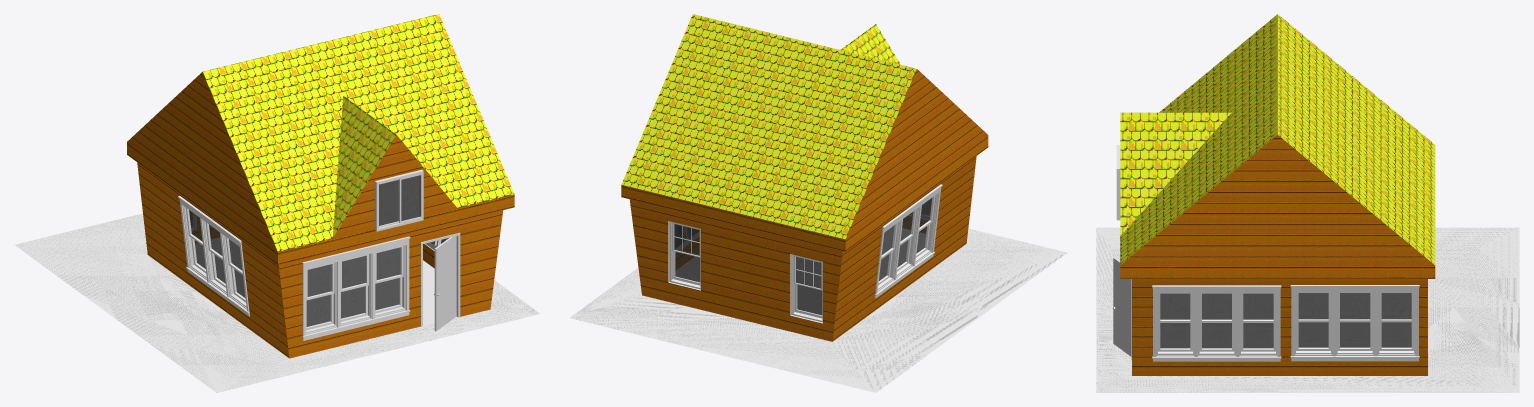
The model's file is house.dae.
3 views of the same model, side by side, from view 1: azimuth 30°, elevation 25°; view 2: azimuth 150°, elevation 25°; view 3: azimuth 270°, elevation 25° (orthographic). The views are drawn at different scales.
Visible parts, largest first — view 1: cartoon_house (×7), Window-3lite_8_-6x5_-4 (×11), windowSlider48x48 (×4), FlushDoor36, Door3-0x6-8RHRev; view 2: cartoon_house (×5), Window-3lite_8_-6x5_-4, Lower_sash (×2); view 3: cartoon_house (×6), Window-3lite_8_-6x5_-4 (×20), FlushDoor36, windowSlider48x48.
Boxes of the visible parts, x1=… form: cartoon_house (×7): x1=14, y1=14, x2=540, y2=392; Window-3lite_8_-6x5_-4 (×11): x1=178, y1=196, x2=410, y2=340; windowSlider48x48 (×4): x1=375, y1=169, x2=423, y2=231; FlushDoor36: x1=434, y1=236, x2=456, y2=331; Door3-0x6-8RHRev: x1=420, y1=232, x2=460, y2=326; cartoon_house (×5): x1=569, y1=14, x2=1067, y2=392; Window-3lite_8_-6x5_-4: x1=874, y1=184, x2=942, y2=298; Lower_sash (×2): x1=675, y1=251, x2=822, y2=315; cartoon_house (×6): x1=1096, y1=14, x2=1519, y2=392; Window-3lite_8_-6x5_-4 (×20): x1=1152, y1=285, x2=1419, y2=361; FlushDoor36: x1=1113, y1=257, x2=1131, y2=356; windowSlider48x48: x1=1116, y1=145, x2=1120, y2=220.
Size of the model in its own units: 330 by 357 by 234.
